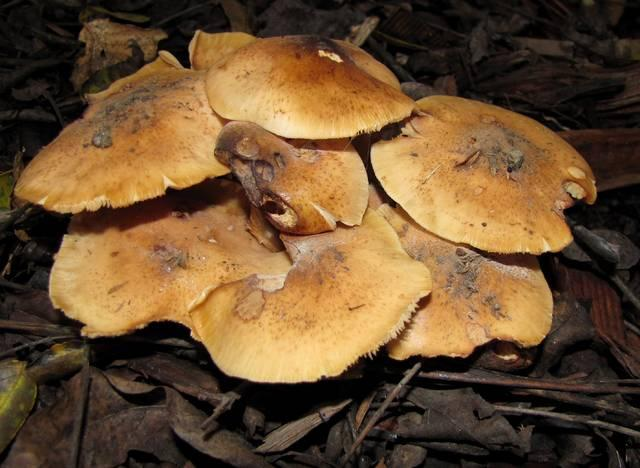edible_mushroom: (13, 29, 598, 384)
